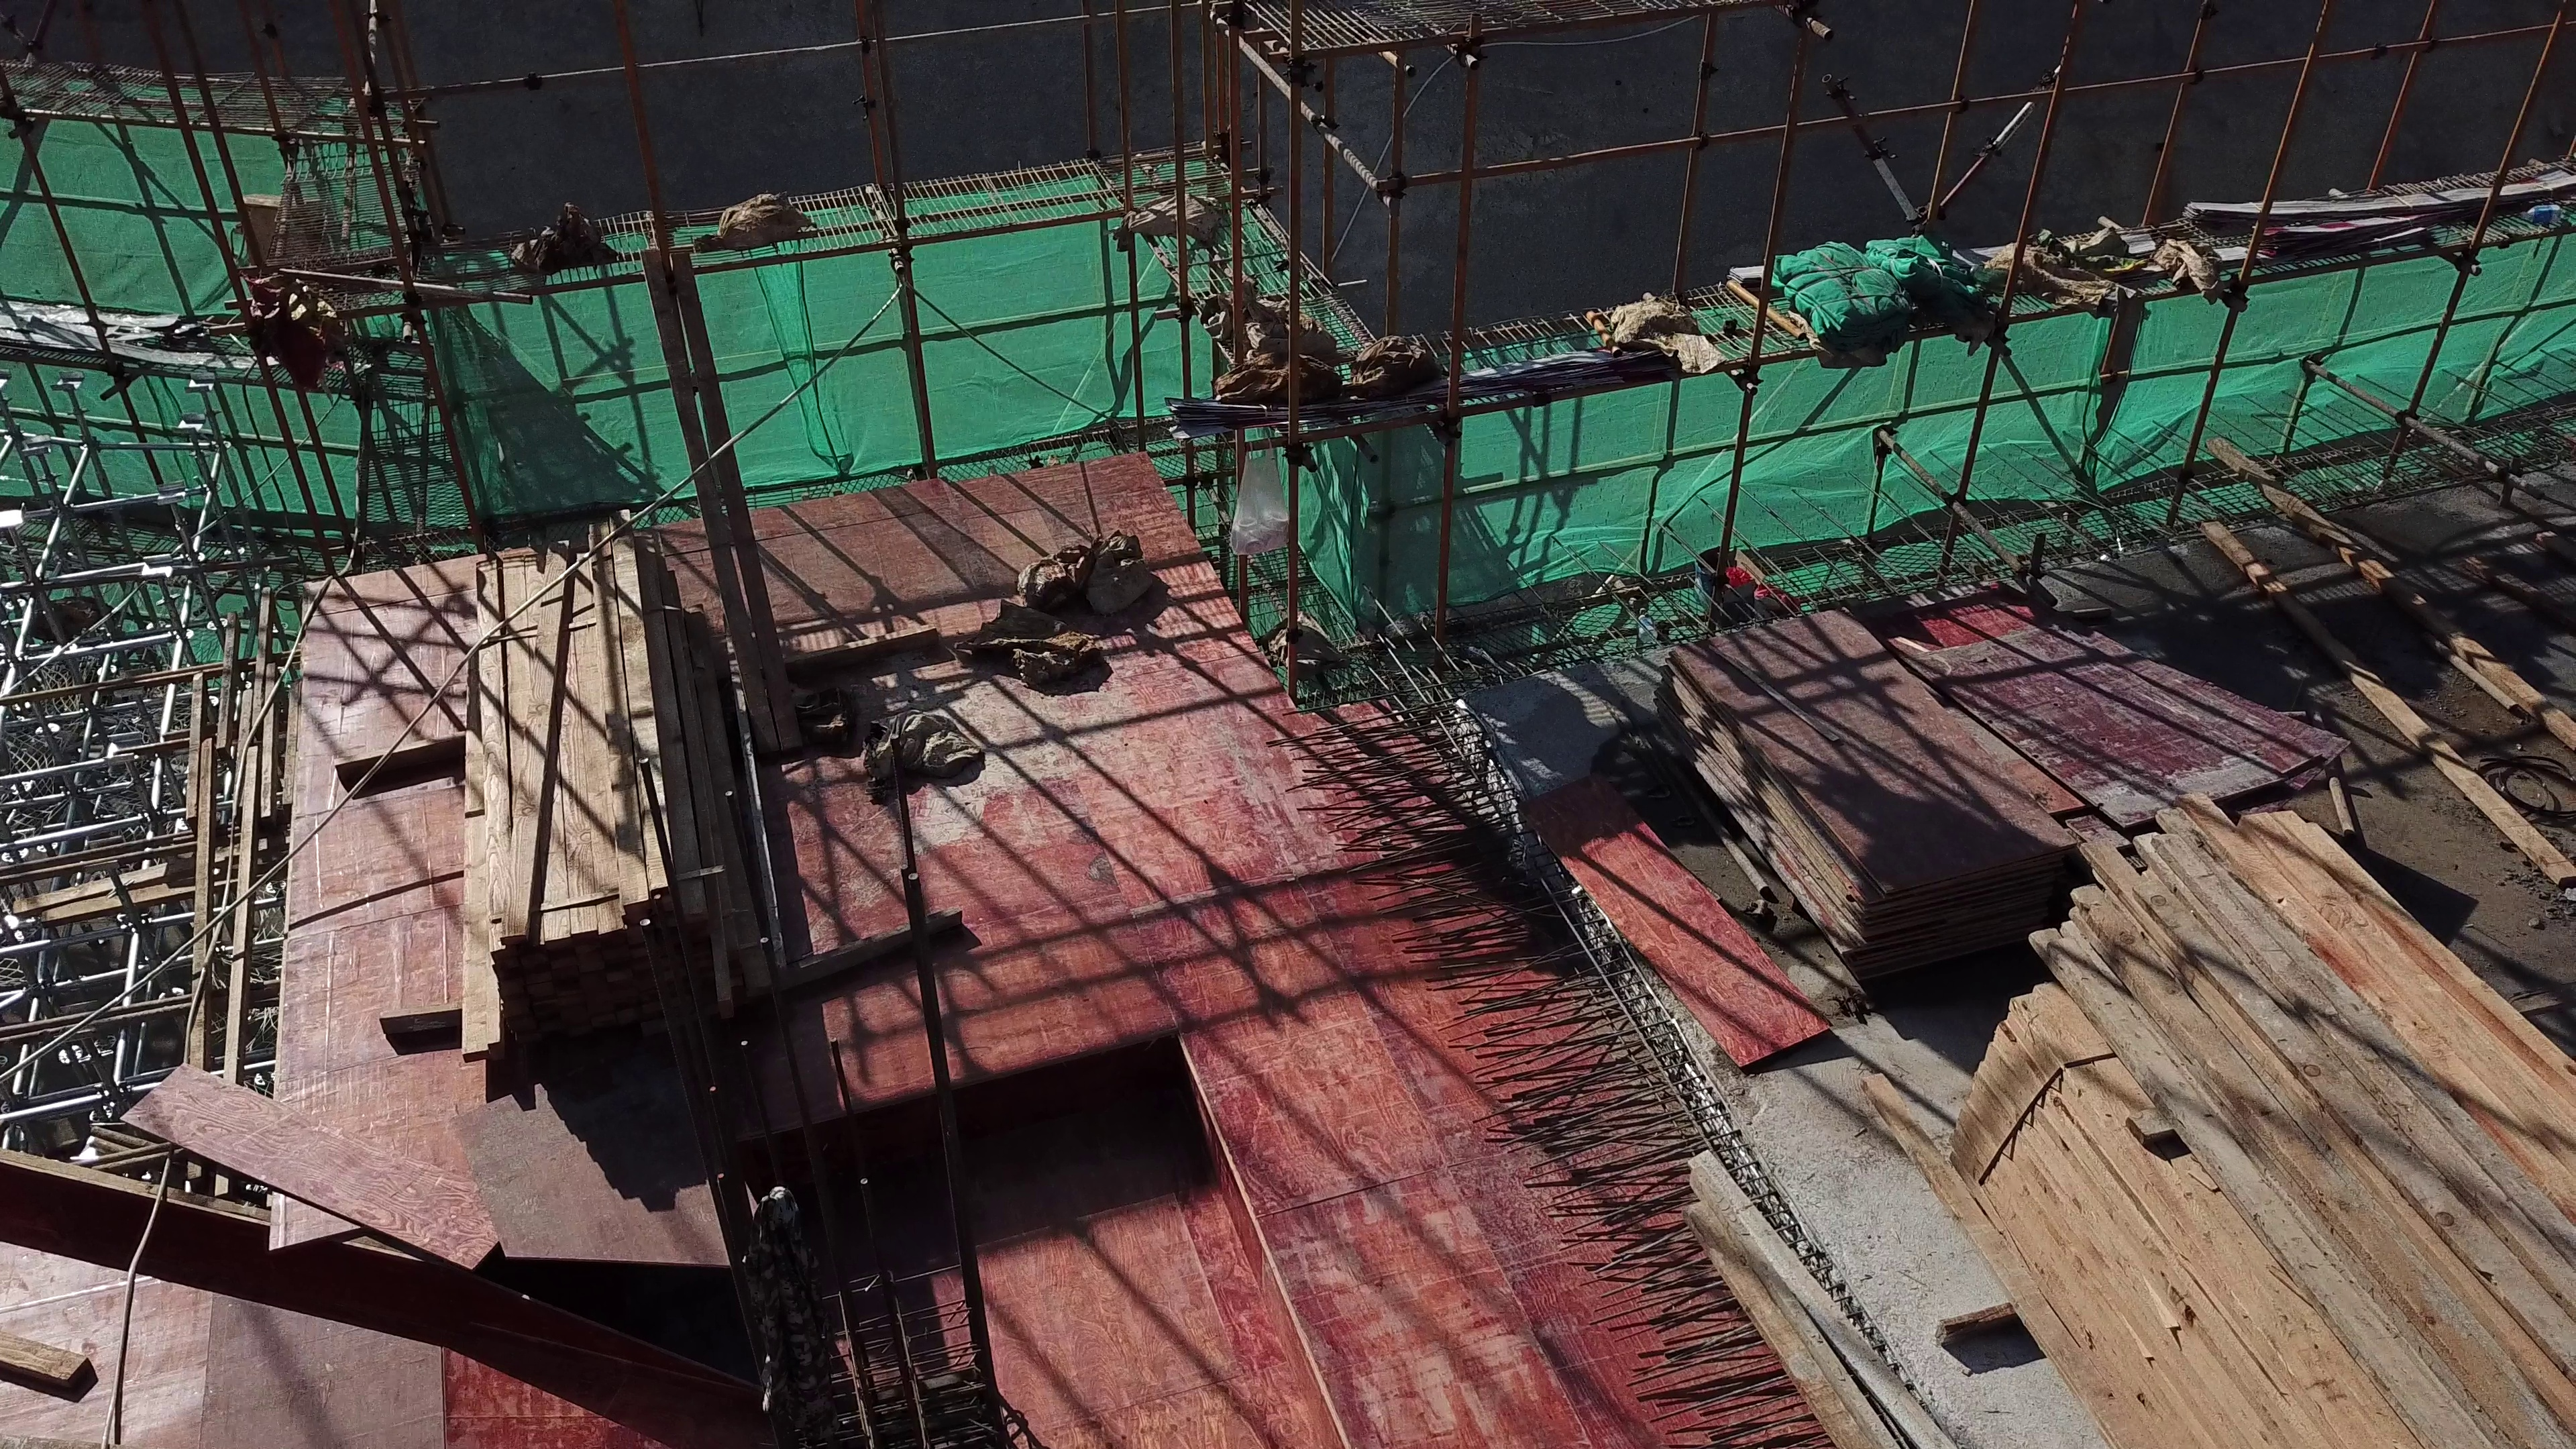board: (1652, 605, 2079, 978), (1904, 628, 2353, 826)
wood: (1943, 809, 2576, 1447), (455, 533, 786, 1054)
